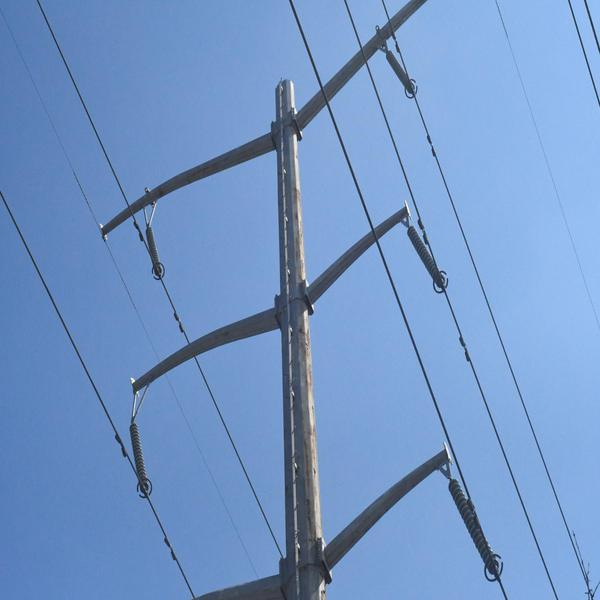utility_pole: (85, 2, 516, 600)
